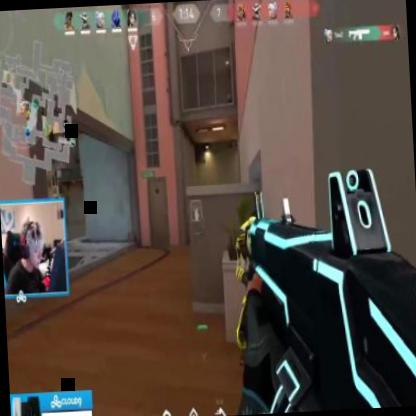enemy: (230, 212, 278, 372)
enemy_head: (240, 216, 260, 252)
